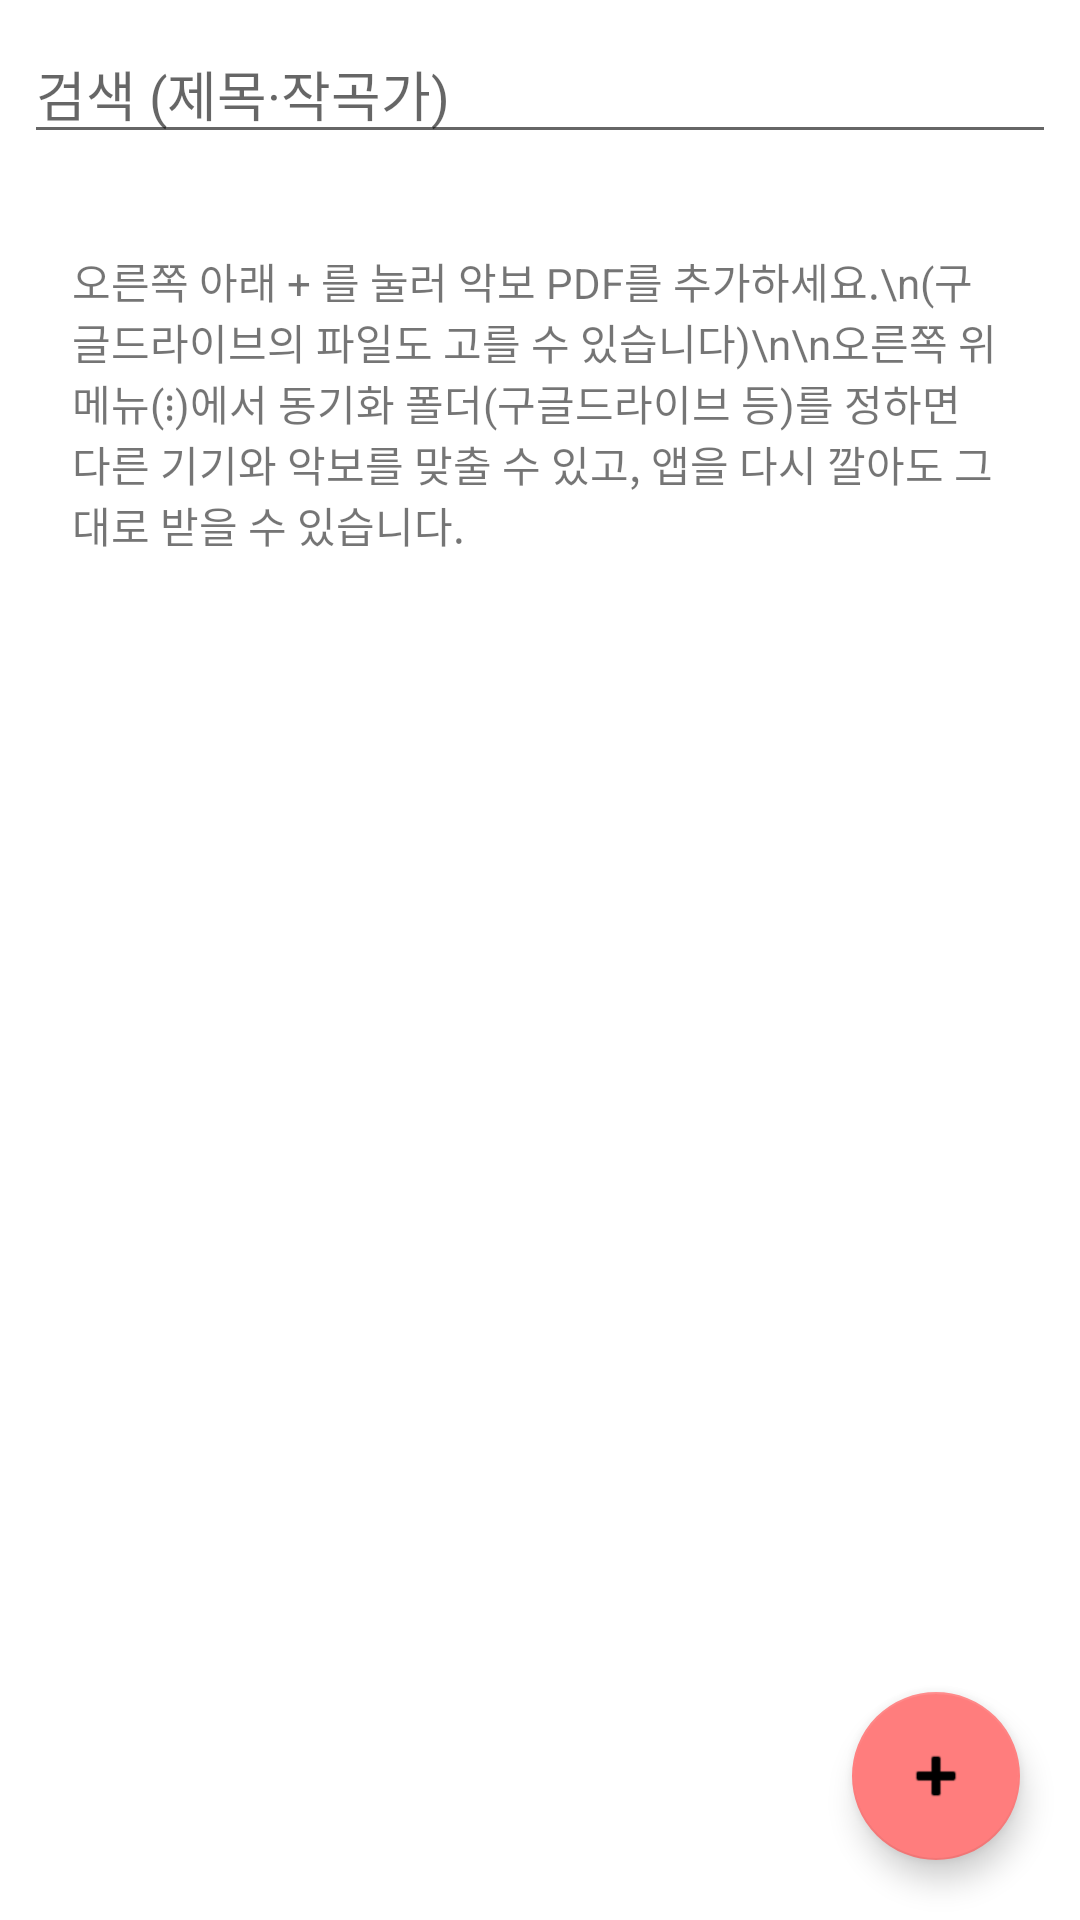

Where icons sit on this 1080px x 1920px app screen, as (x1, y1, x2, y2):
악보 추가: (852, 1692, 1020, 1860)
